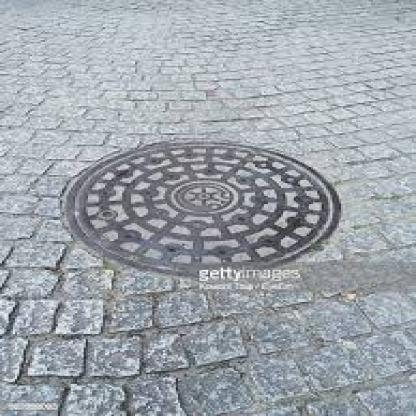manholes: (34, 125, 360, 302)
